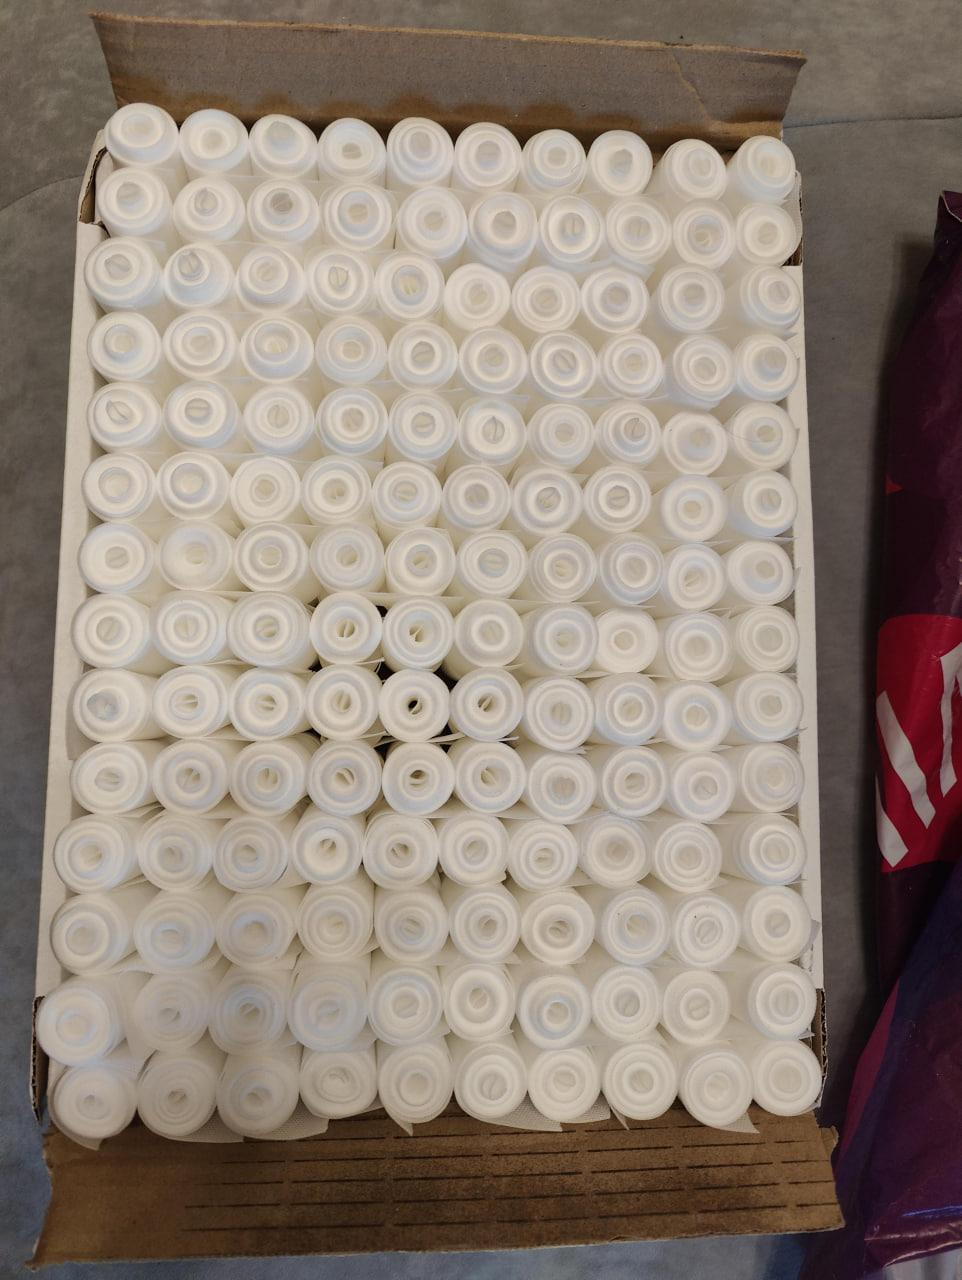roll: (126, 961, 219, 1055), (45, 888, 138, 979), (133, 1046, 223, 1140), (32, 977, 124, 1068), (287, 957, 376, 1051), (212, 1045, 302, 1137), (49, 810, 140, 899), (207, 959, 295, 1052), (46, 1058, 139, 1145), (130, 888, 221, 976), (68, 663, 159, 748), (295, 1038, 382, 1124), (374, 1038, 458, 1127), (363, 961, 449, 1048), (132, 807, 220, 892), (224, 590, 313, 674), (69, 590, 155, 675), (67, 734, 155, 817), (598, 1037, 681, 1124), (227, 735, 313, 819), (212, 885, 299, 968), (450, 1039, 533, 1125), (293, 879, 378, 963), (439, 958, 521, 1044), (148, 734, 234, 816), (674, 1045, 756, 1131), (745, 1036, 827, 1122), (370, 882, 453, 966), (513, 968, 595, 1053), (225, 662, 311, 743), (303, 736, 386, 819), (288, 805, 371, 888), (149, 662, 233, 743), (735, 882, 816, 965), (149, 588, 232, 669), (360, 808, 444, 889), (211, 812, 295, 893), (593, 886, 674, 969), (444, 883, 524, 966), (523, 1042, 604, 1124), (726, 810, 811, 888), (515, 886, 597, 967), (75, 519, 157, 600), (301, 662, 383, 742), (449, 737, 531, 817), (726, 669, 807, 749), (82, 235, 164, 315), (744, 961, 823, 1044), (378, 737, 458, 818), (447, 665, 528, 744), (587, 963, 666, 1045), (394, 184, 473, 266), (380, 593, 457, 677), (436, 808, 515, 888), (79, 450, 159, 529), (666, 890, 744, 972), (84, 378, 164, 457), (85, 307, 164, 387), (730, 739, 809, 817), (231, 520, 312, 598), (465, 191, 542, 273), (155, 517, 234, 595), (649, 818, 729, 896), (94, 165, 174, 242), (305, 590, 386, 667), (306, 521, 387, 598), (658, 966, 735, 1047), (376, 665, 455, 743), (518, 674, 598, 751), (450, 596, 530, 673), (226, 453, 306, 529), (504, 817, 584, 894), (161, 378, 240, 455), (573, 812, 653, 889), (155, 448, 233, 524), (723, 397, 799, 476), (728, 603, 804, 682), (161, 308, 240, 384), (368, 459, 446, 535), (453, 393, 530, 471), (384, 388, 461, 466), (586, 671, 664, 748), (521, 749, 599, 825), (312, 313, 390, 390), (523, 602, 602, 678), (384, 319, 461, 396), (663, 749, 740, 825), (659, 609, 737, 685), (595, 743, 671, 820), (439, 261, 516, 336), (239, 382, 318, 457), (371, 251, 447, 327), (176, 106, 252, 183), (382, 523, 460, 598), (453, 527, 531, 602), (313, 384, 391, 459), (318, 180, 396, 255), (103, 99, 181, 174), (655, 473, 731, 549), (455, 323, 531, 399), (725, 469, 800, 545), (440, 462, 516, 536), (658, 679, 735, 754), (657, 539, 732, 616), (663, 332, 738, 409), (720, 536, 797, 611), (298, 455, 375, 529), (450, 119, 524, 196), (160, 241, 238, 314), (169, 177, 248, 250), (508, 264, 584, 338), (507, 465, 584, 538), (725, 132, 798, 209), (524, 531, 599, 606), (524, 399, 598, 475), (594, 532, 668, 608), (654, 264, 730, 337), (536, 194, 608, 271), (237, 313, 315, 385), (244, 177, 321, 249), (525, 328, 600, 402), (302, 245, 377, 319), (232, 242, 308, 315), (384, 115, 457, 191), (601, 194, 673, 271), (591, 398, 665, 472), (730, 330, 800, 407), (581, 463, 655, 535), (595, 329, 668, 403), (314, 115, 389, 187), (734, 263, 804, 338), (653, 135, 729, 206), (588, 605, 661, 678), (578, 266, 651, 337), (668, 200, 740, 273), (658, 408, 731, 480), (247, 111, 320, 182), (584, 127, 656, 199), (731, 199, 800, 271), (518, 127, 588, 197)
